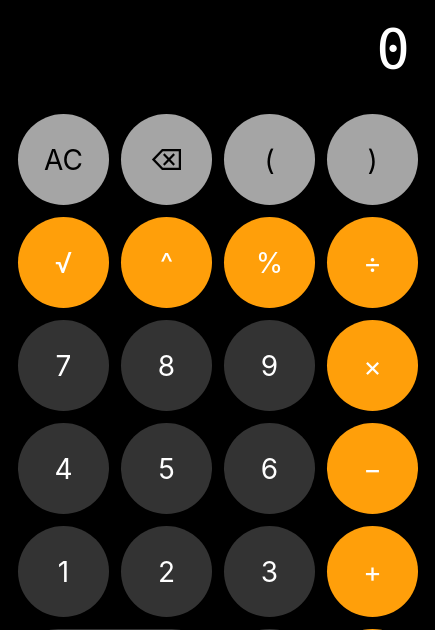
Scenario: Calculator › builds the display as digits are pressed
Click the button "1" at (64, 572), box [18,526,109,617]
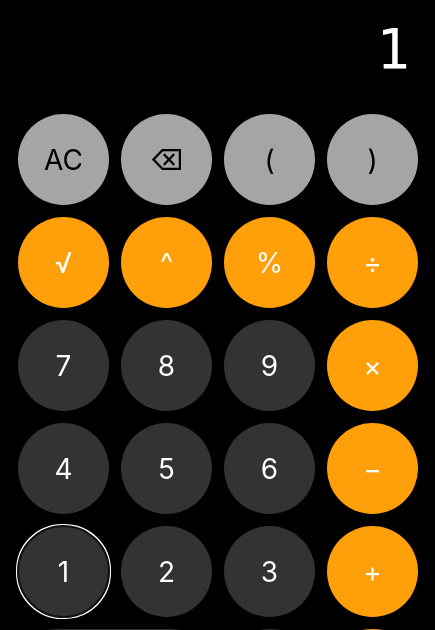
Click the button "2" at (166, 572), box [121,526,212,617]
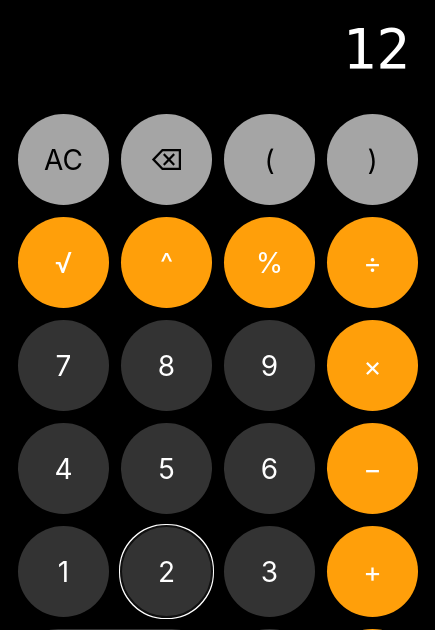
Click the button "3" at (270, 572), box [224,526,315,617]
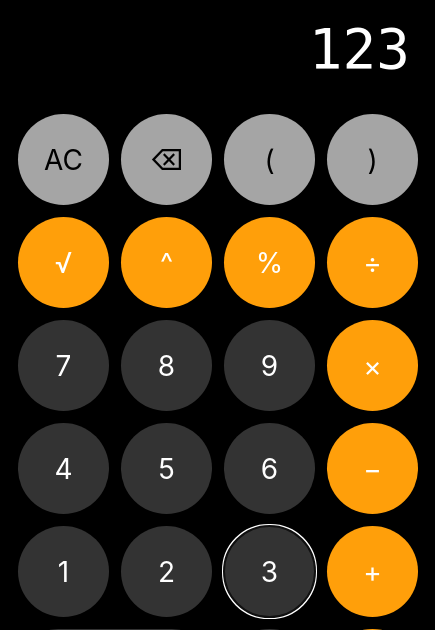
Result: the element with test id "display-value" reads "123" at [309,16,410,81]
